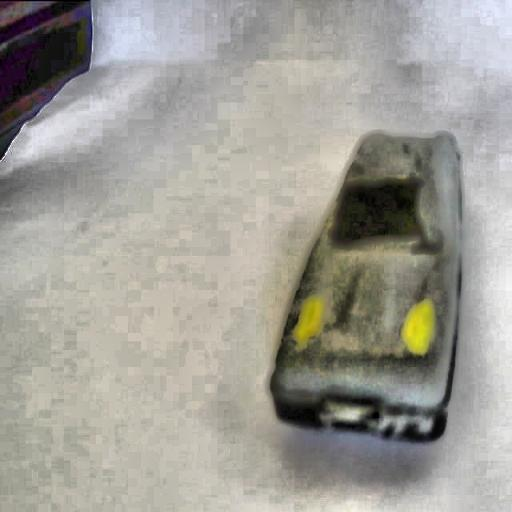normal_car: (264, 126, 470, 448)
